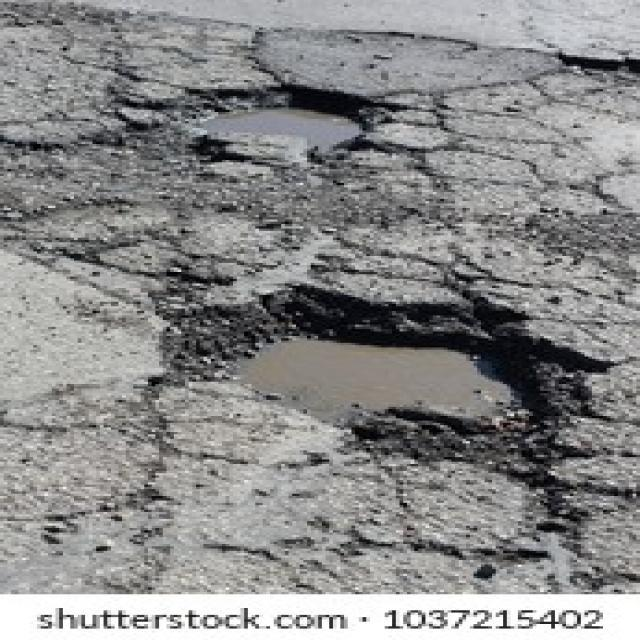Pothole: (155, 278, 607, 476), (152, 73, 392, 162)
